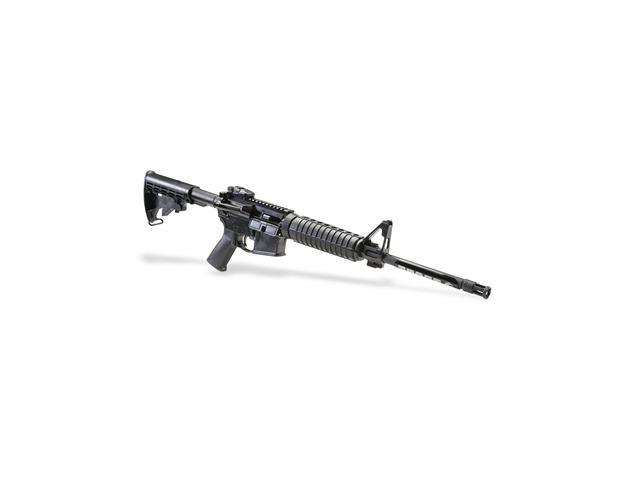rifle: (139, 168, 500, 300)
